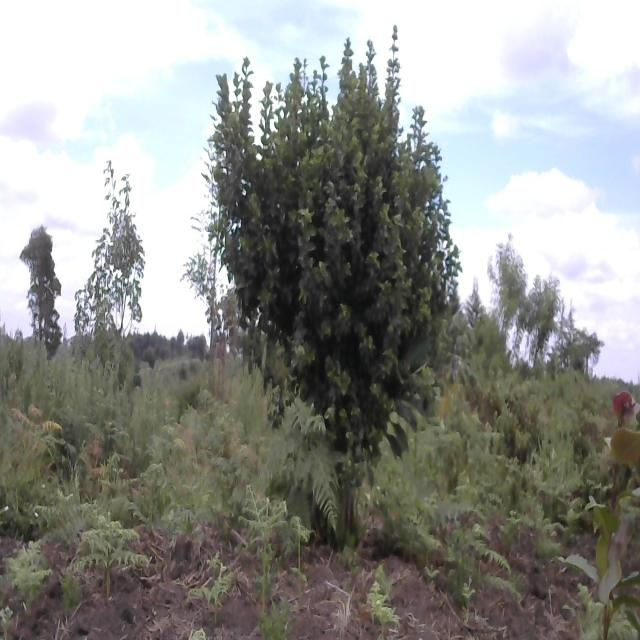other: (202, 50, 467, 610)
